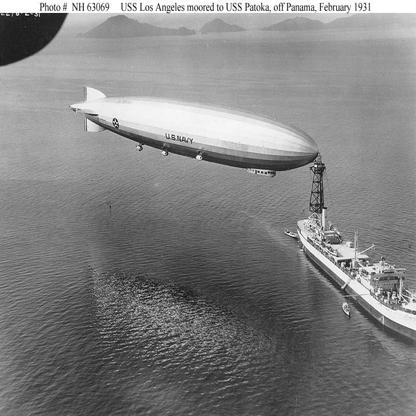Airship: (69, 86, 319, 179)
